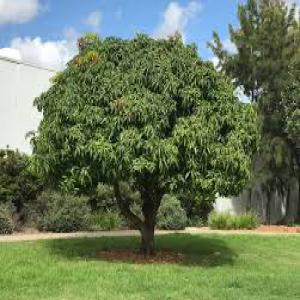Tree: (28, 27, 260, 263)
